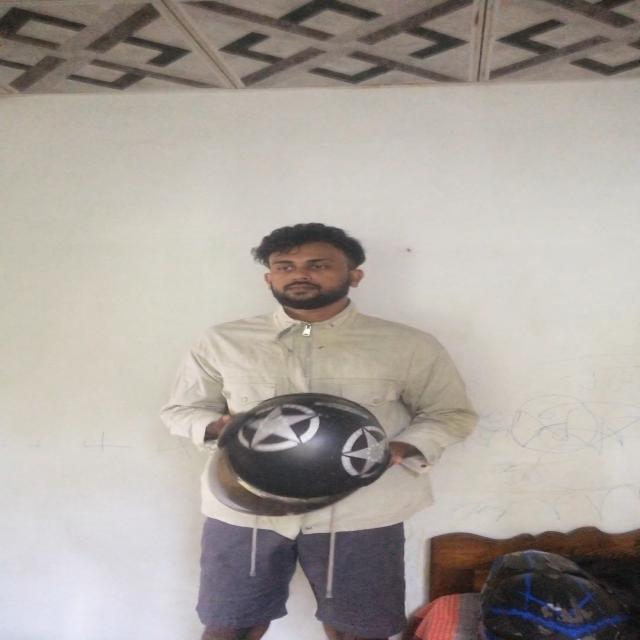Jacket_Wearer: (172, 304, 492, 544)
Person: (167, 215, 493, 640)
